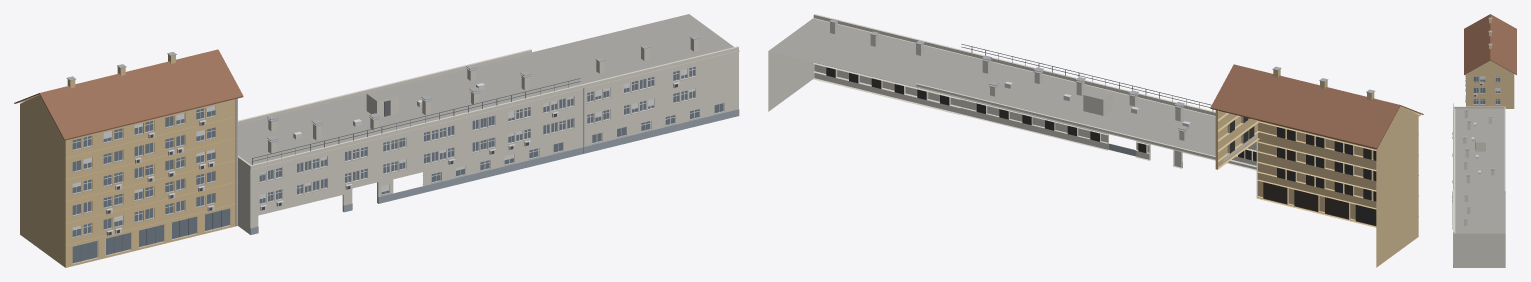
Rendered from building.glb.
3 renders of one model, left to right at view 1: azimuth 30°, elevation 25°; view 2: azimuth 150°, elevation 25°; view 3: azimuth 270°, elevation 25°, orthographic. The views are drawn at different scales.
Visible parts, largest first — view 1: Building; view 2: Building; view 3: Building.
Part boxes in pixels (box(x1,y1,x2,y2)): Building: box(14, 14, 739, 267); Building: box(768, 14, 1423, 267); Building: box(1452, 14, 1516, 267).
Size of the model in its own units: 92.5 by 22.07 by 14.83.
